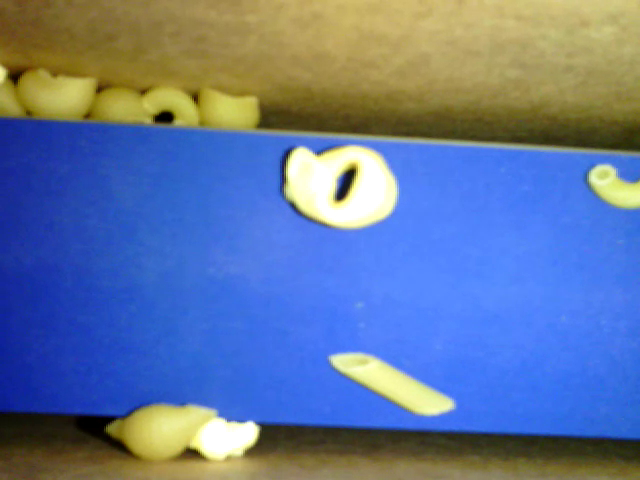elbow: (282, 143, 397, 231), (587, 163, 639, 211), (142, 87, 200, 127)
penne: (327, 353, 455, 416)
shell: (103, 401, 217, 459), (16, 68, 98, 120), (192, 84, 258, 129), (92, 88, 153, 124)
